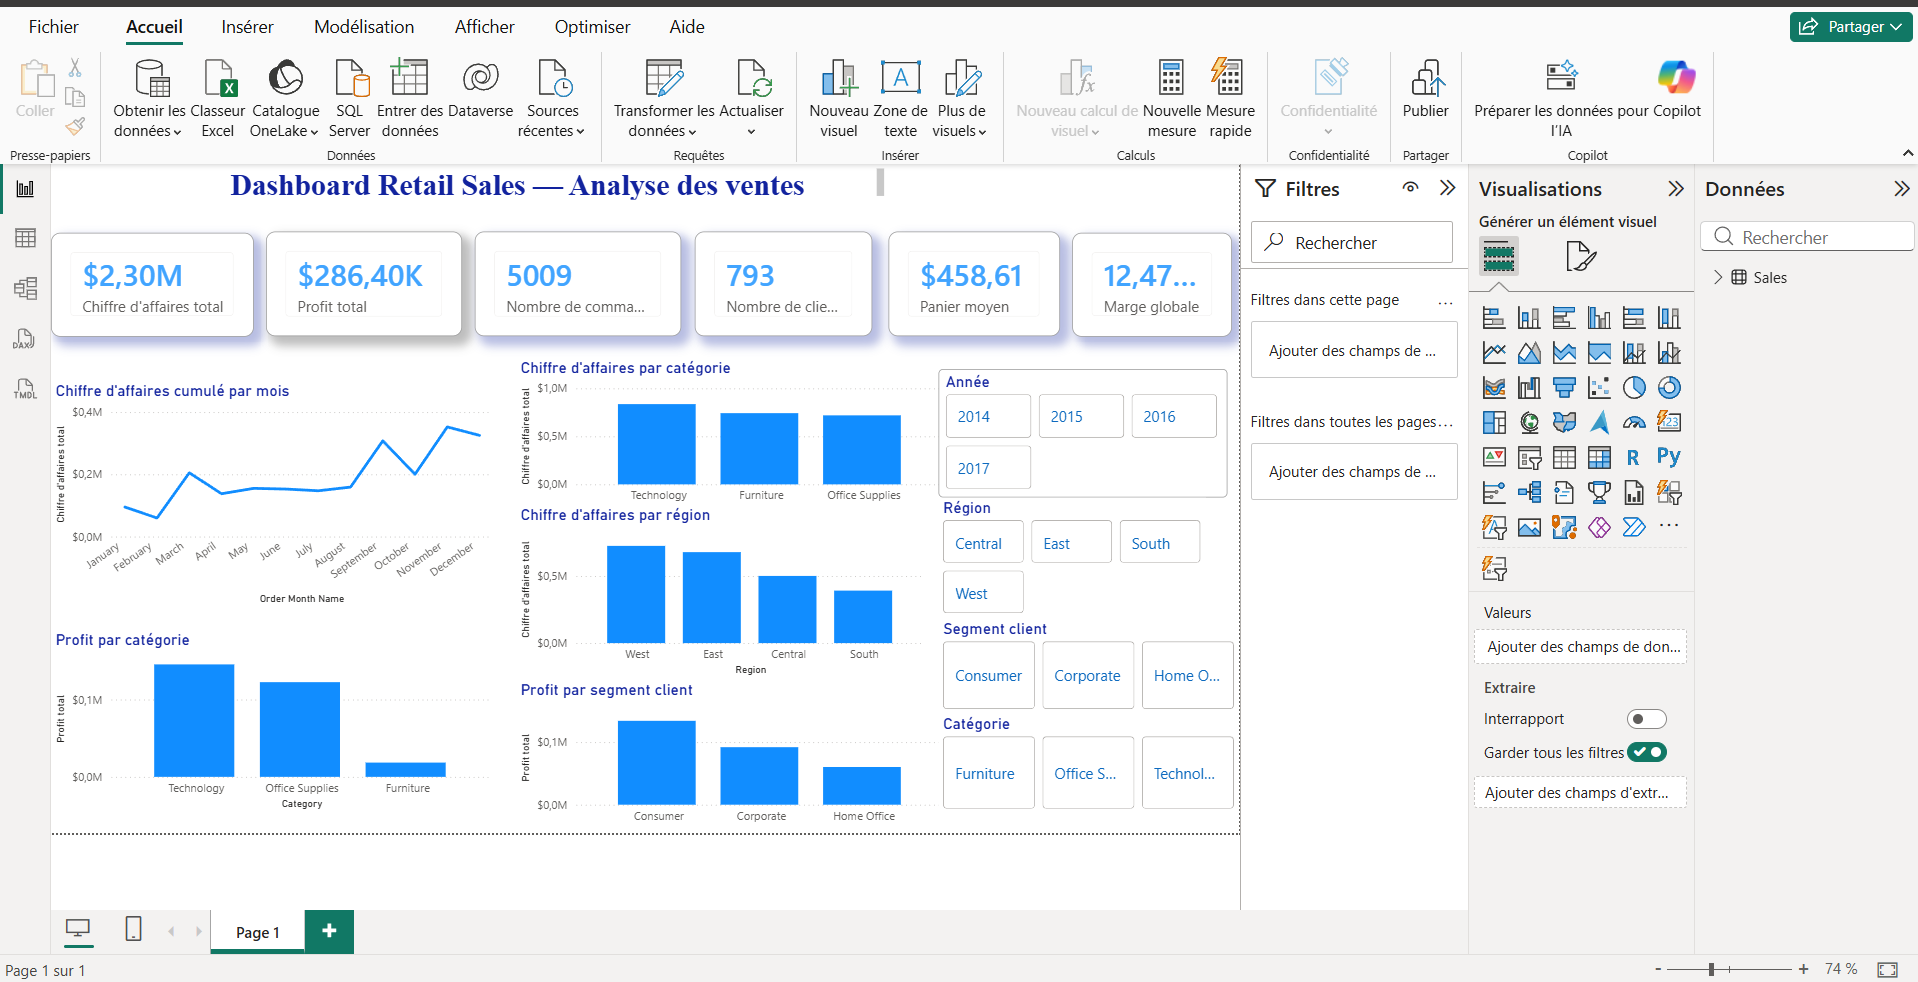

What the dashboard file says about the page in this screenshot:
{"tool":"powerbi","page":{"name":"Page 1","canvas":[1280,720],"ordinal":0},"visuals":[{"type":"cardVisual","fields":{"Data":["Sales.Chiffre d'affaires total"]},"box":[0,74,218.1,111.7],"z":0},{"type":"cardVisual","fields":{"Data":["Sales.Profit total"]},"box":[231.6,72.7,211.4,113.1],"z":1000},{"type":"cardVisual","fields":{"Data":["Sales.Nombre de commandes"]},"box":[456.4,72.7,222.1,113.1],"z":2000},{"type":"cardVisual","fields":{"Data":["Sales.Nombre de clients"]},"box":[693.3,72.7,191.2,113.1],"z":3000},{"type":"cardVisual","fields":{"Data":["Sales.Panier moyen"]},"box":[902,72.7,184.4,113.1],"z":4000},{"type":"cardVisual","fields":{"Data":["Sales.Marge globale"]},"box":[1099.9,74,172.3,111.7],"z":5000},{"type":"lineChart","title":"Chiffre d''affaires cumulé par mois","fields":{"Y":["Sales.Chiffre d'affaires total"],"Category":["Sales.Order Month Name"]},"box":[0,234.2,480.6,245],"z":6000},{"type":"clusteredColumnChart","title":"Chiffre d''affaires par catégorie","fields":{"Category":["Sales.Category"],"Y":["Sales.Chiffre d'affaires total"]},"box":[500.8,208.7,468.5,176.4],"z":7000},{"type":"clusteredColumnChart","title":"Profit par catégorie","fields":{"Category":["Sales.Category"],"Y":["Sales.Profit total"]},"box":[0,502.1,480.6,197.9],"z":8000},{"type":"clusteredColumnChart","title":"Chiffre d''affaires par région","fields":{"Category":["Sales.Region"],"Y":["Sales.Chiffre d'affaires total"]},"box":[500.8,367.5,445.6,188.5],"z":9000},{"type":"clusteredColumnChart","title":"Profit par segment client","fields":{"Category":["Sales.Segment"],"Y":["Sales.Profit total"]},"box":[500.8,556,468.5,164.2],"z":10000},{"type":"advancedSlicerVisual","title":"Année","fields":{"Values":["Sales.Order Year"]},"box":[955.8,220.8,311,138.7],"z":11000},{"type":"advancedSlicerVisual","title":"Région","fields":{"Values":["Sales.Region"]},"box":[955.8,359.4,288.1,130.6],"z":12000},{"type":"advancedSlicerVisual","title":"Segment client","fields":{"Values":["Sales.Segment"]},"box":[955.8,490,324.4,102.3],"z":13000},{"type":"advancedSlicerVisual","title":"Catégorie","fields":{"Values":["Sales.Category"]},"box":[955.8,592.3,324.4,107.7],"z":14000},{"type":"textbox","box":[188.5,0,713.5,43.1],"z":16000}]}

Visuals, with their boxes on the page's 1280x720 design canvas (x1, y1, x2, y2). These are canvas units, not pixel positions in the 1918x982 screenshot, which may show the page scaled, cropped or inside an application window:
cardVisual - Sales.Chiffre d'affaires total: bbox(0, 74, 218, 186)
cardVisual - Sales.Profit total: bbox(232, 73, 443, 186)
cardVisual - Sales.Nombre de commandes: bbox(456, 73, 678, 186)
cardVisual - Sales.Nombre de clients: bbox(693, 73, 884, 186)
cardVisual - Sales.Panier moyen: bbox(902, 73, 1086, 186)
cardVisual - Sales.Marge globale: bbox(1100, 74, 1272, 186)
"Chiffre d''affaires cumulé par mois" lineChart: bbox(0, 234, 481, 479)
"Chiffre d''affaires par catégorie" clusteredColumnChart: bbox(501, 209, 969, 385)
"Profit par catégorie" clusteredColumnChart: bbox(0, 502, 481, 700)
"Chiffre d''affaires par région" clusteredColumnChart: bbox(501, 368, 946, 556)
"Profit par segment client" clusteredColumnChart: bbox(501, 556, 969, 720)
"Année" advancedSlicerVisual: bbox(956, 221, 1267, 360)
"Région" advancedSlicerVisual: bbox(956, 359, 1244, 490)
"Segment client" advancedSlicerVisual: bbox(956, 490, 1280, 592)
"Catégorie" advancedSlicerVisual: bbox(956, 592, 1280, 700)
textbox: bbox(188, 0, 902, 43)
